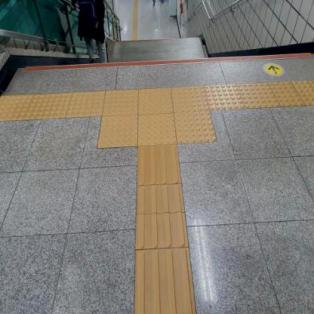Podoctatil: (136, 147, 198, 313), (0, 82, 313, 113)
